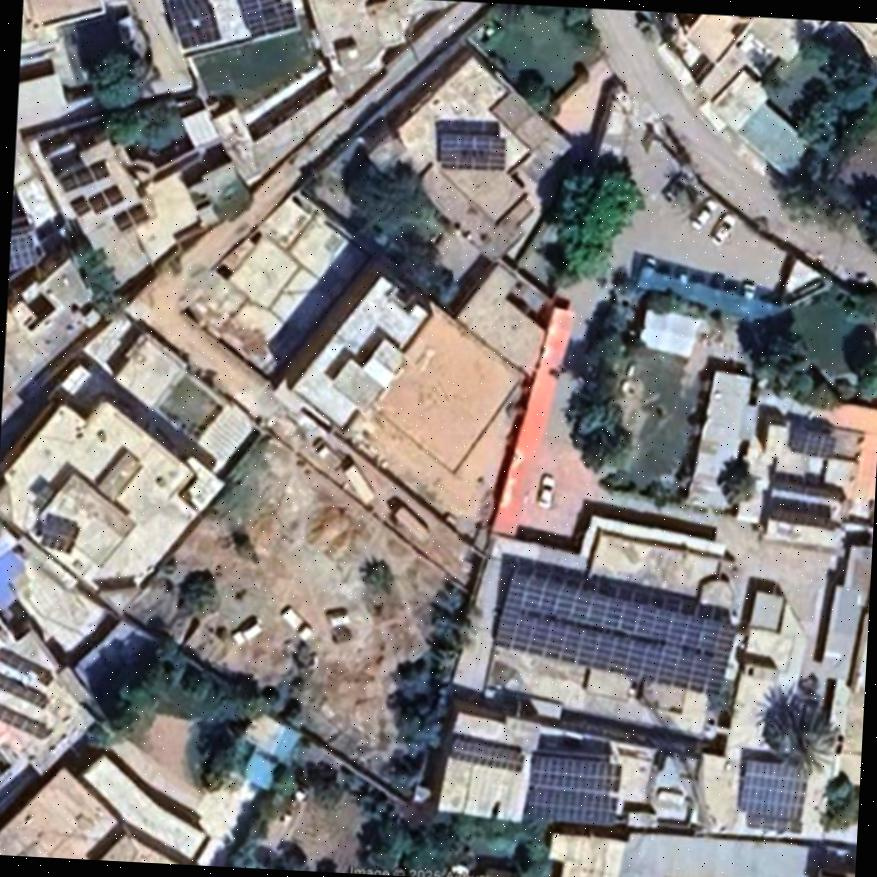Solarpanel: (491, 567, 739, 697), (526, 754, 622, 827), (741, 765, 807, 830), (448, 731, 523, 772), (439, 133, 504, 172), (0, 646, 53, 685), (242, 0, 306, 32), (170, 0, 216, 43), (0, 672, 47, 709), (35, 514, 81, 551), (791, 425, 837, 460), (0, 704, 45, 738), (8, 230, 34, 273)
